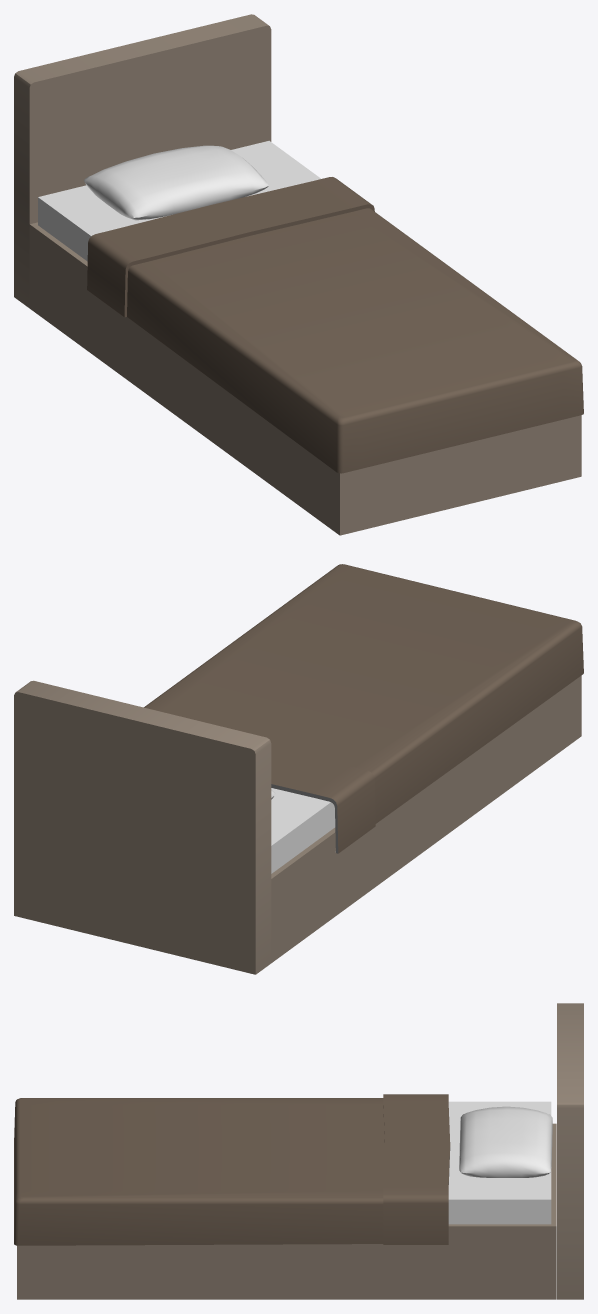
Rendered from Bed4_C3.fbx.
The picture shows the model from 3 angles, top to bottom: view 1: azimuth 30°, elevation 25°; view 2: azimuth 150°, elevation 25°; view 3: azimuth 270°, elevation 25°; orthographic projection. The views are drawn at different scales.
Visible parts, largest first — view 1: Bed4_C3; view 2: Bed4_C3; view 3: Bed4_C3.
Part boxes in pixels (x1,y1,x2,y2): Bed4_C3: (14,14,583,535); Bed4_C3: (14,564,583,974); Bed4_C3: (14,1003,583,1299).
Size of the model in its own units: 93.54 by 80 by 211.
